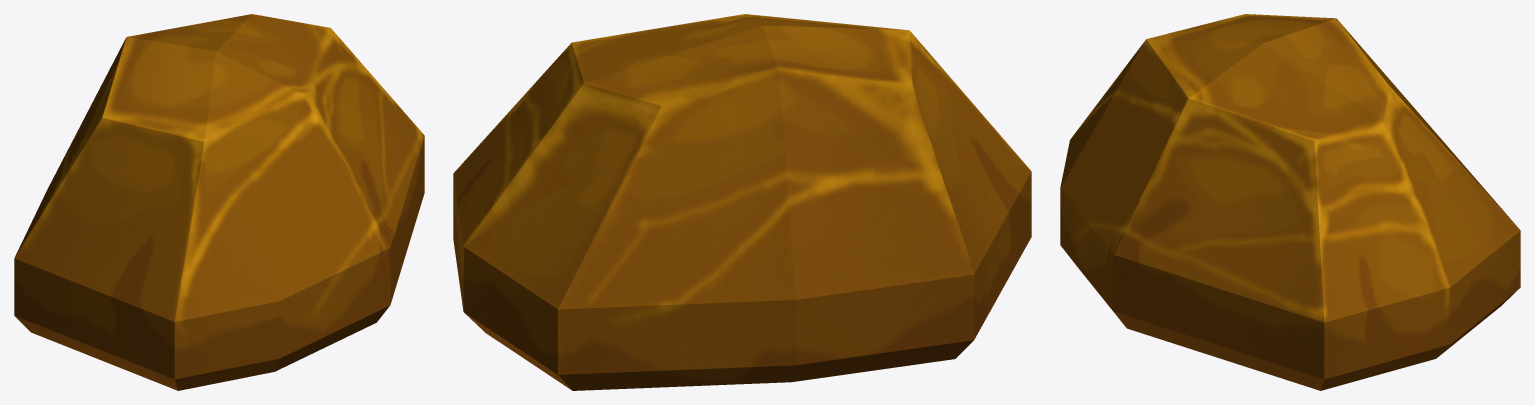
The model's file is Rock3.FBX.
The picture shows the model from 3 angles, left to right: view 1: azimuth 30°, elevation 25°; view 2: azimuth 150°, elevation 25°; view 3: azimuth 270°, elevation 25°; orthographic projection. The views are drawn at different scales.
Parts seen in each view (by area): view 1: Rock3; view 2: Rock3; view 3: Rock3.
Part boxes in pixels (left/top/right/bottom): Rock3: left=14, top=14, right=424, bottom=390; Rock3: left=453, top=14, right=1031, bottom=390; Rock3: left=1060, top=14, right=1520, bottom=390.
Size of the model in its own units: 16.02 by 8.59 by 14.9.
